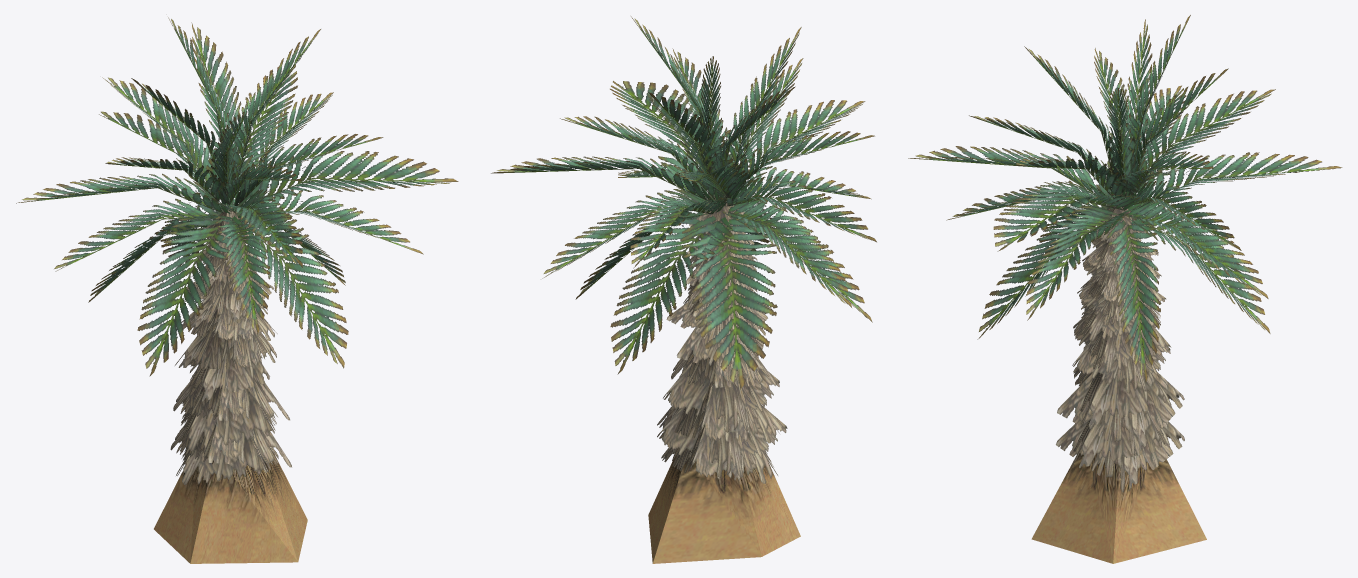
File: C2SNCTRA.obj
3 renders of one model, left to right at view 1: azimuth 30°, elevation 25°; view 2: azimuth 150°, elevation 25°; view 3: azimuth 270°, elevation 25°, orthographic. The views are drawn at different scales.
Parts seen in each view (by area): view 1: Node 0; view 2: Node 0; view 3: Node 0.
Part boxes in pixels (left/top/right/bottom): Node 0: left=16, top=17, right=458, bottom=563; Node 0: left=491, top=16, right=876, bottom=563; Node 0: left=908, top=15, right=1342, bottom=563.
Size of the model in its own units: 4.65 by 6.35 by 5.03.
Materials: 1 (1 with a texture image).
